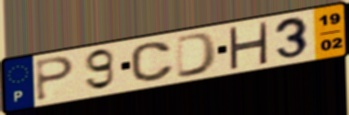3: (273, 15, 313, 62)
9: (82, 48, 118, 93)
C: (129, 40, 177, 84)
D: (174, 30, 220, 80)
H: (226, 20, 270, 70)
P: (34, 55, 76, 103)
